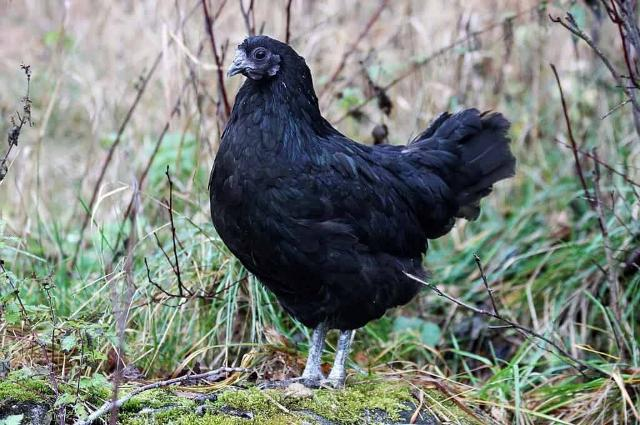Chicken: (211, 34, 515, 388)
